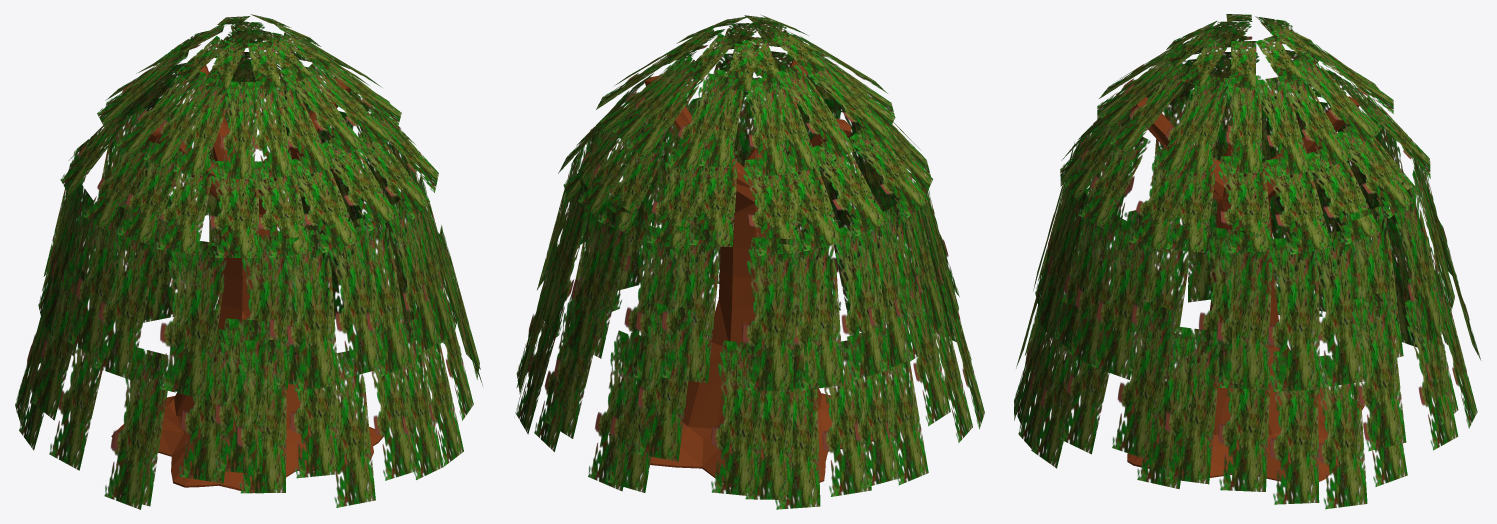
Rendered from willow tree.glb.
The picture shows the model from 3 angles, left to right: view 1: azimuth 30°, elevation 25°; view 2: azimuth 150°, elevation 25°; view 3: azimuth 270°, elevation 25°; orthographic projection.
Visible parts, largest first — view 1: Plane.005, Plane.004, Plane.003, Plane, Mesh1.001, Plane.001; view 2: Plane.005, Plane.004, Plane.003, Plane, Mesh1.001, Plane.001; view 3: Plane.005, Plane.004, Plane.003, Plane, Mesh1.001, Plane.001.
Boxes of the visible parts, x1,y1,x2,y2 form: Plane.005: (15, 196, 482, 509); Plane.004: (38, 90, 459, 399); Plane.003: (60, 51, 438, 257); Plane: (97, 21, 401, 179); Mesh1.001: (111, 63, 383, 492); Plane.001: (176, 14, 330, 89); Plane.005: (515, 162, 984, 509); Plane.004: (537, 95, 959, 391); Plane.003: (558, 51, 932, 255); Plane: (596, 21, 895, 176); Mesh1.001: (608, 60, 873, 487); Plane.001: (667, 14, 824, 91); Plane.005: (1014, 186, 1481, 509); Plane.004: (1033, 87, 1458, 391); Plane.003: (1060, 50, 1430, 254); Plane: (1097, 16, 1393, 175); Mesh1.001: (1127, 54, 1364, 481); Plane.001: (1166, 14, 1322, 87).
Bounding box in the file's own units: 1.89 × 1.8 × 1.87.
2 materials, 1 textured.
